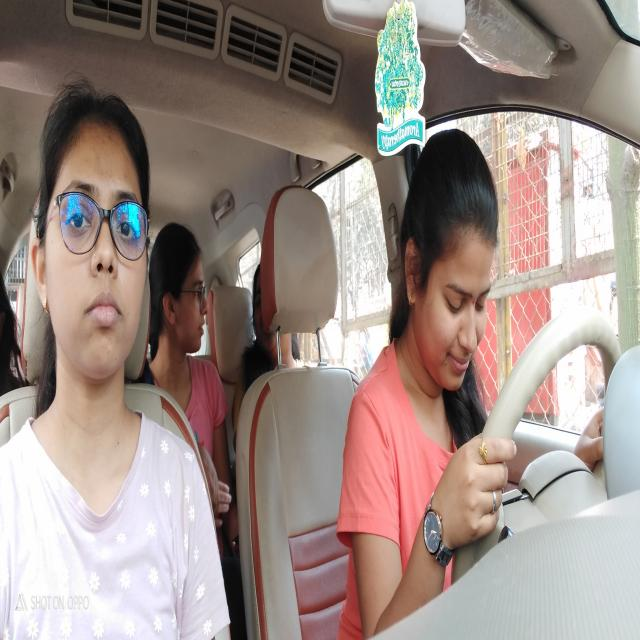drowsy: (391, 122, 500, 428)
person: (26, 74, 154, 402), (158, 203, 213, 396), (247, 248, 302, 386)
